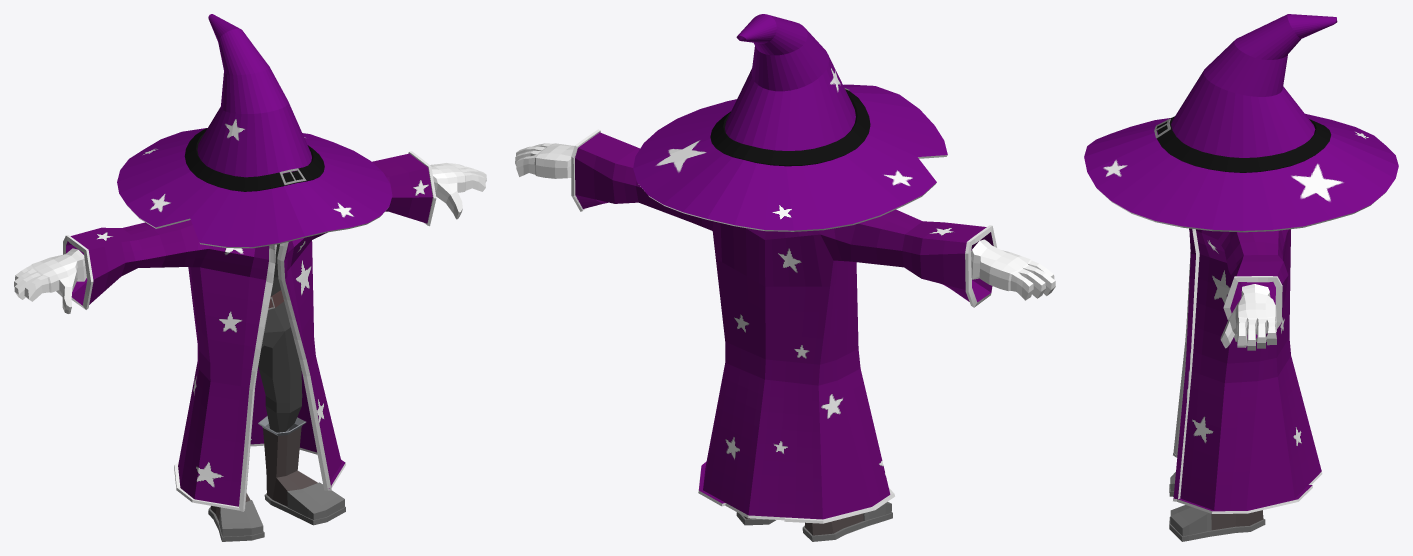
The model's file is MateriaisMago.fbx.
3 views of the same model, side by side, from view 1: azimuth 30°, elevation 25°; view 2: azimuth 150°, elevation 25°; view 3: azimuth 270°, elevation 25° (orthographic). The views are drawn at different scales.
Visible parts, largest first — view 1: MantoMagoRoxo, Hat _equip.001, Botas.002; view 2: MantoMagoRoxo, Hat _equip.001, Botas.002; view 3: Hat _equip.001, MantoMagoRoxo, Botas.002.
Part boxes in pixels (x1,y1,x2,y2): MantoMagoRoxo: [63, 151, 436, 511]; Hat _equip.001: [117, 14, 392, 248]; Botas.002: [14, 163, 486, 541]; MantoMagoRoxo: [571, 129, 996, 523]; Hat _equip.001: [633, 14, 947, 231]; Botas.002: [515, 143, 1055, 541]; Hat _equip.001: [1084, 14, 1398, 232]; MantoMagoRoxo: [1173, 228, 1322, 513]; Botas.002: [1169, 284, 1276, 541].
Size of the model in its own units: 212 by 199 by 115.
14 materials, 2 textured.
